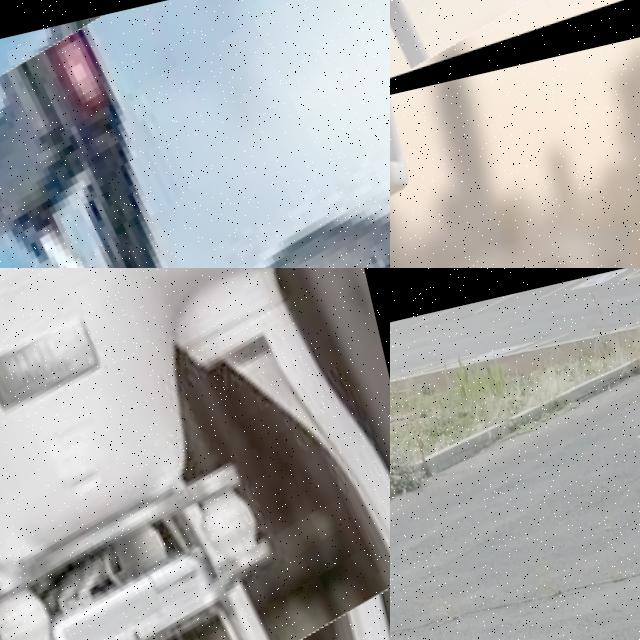drone: (0, 268, 390, 640), (0, 0, 390, 268), (390, 0, 640, 133)
